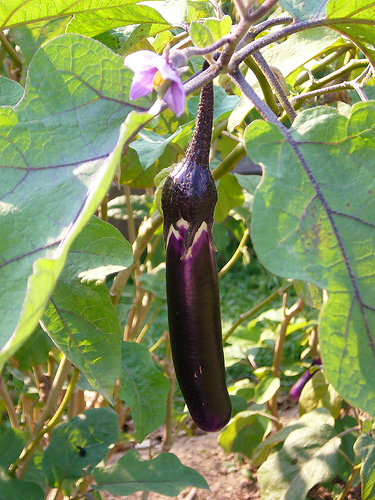eggplant: (154, 119, 251, 426)
